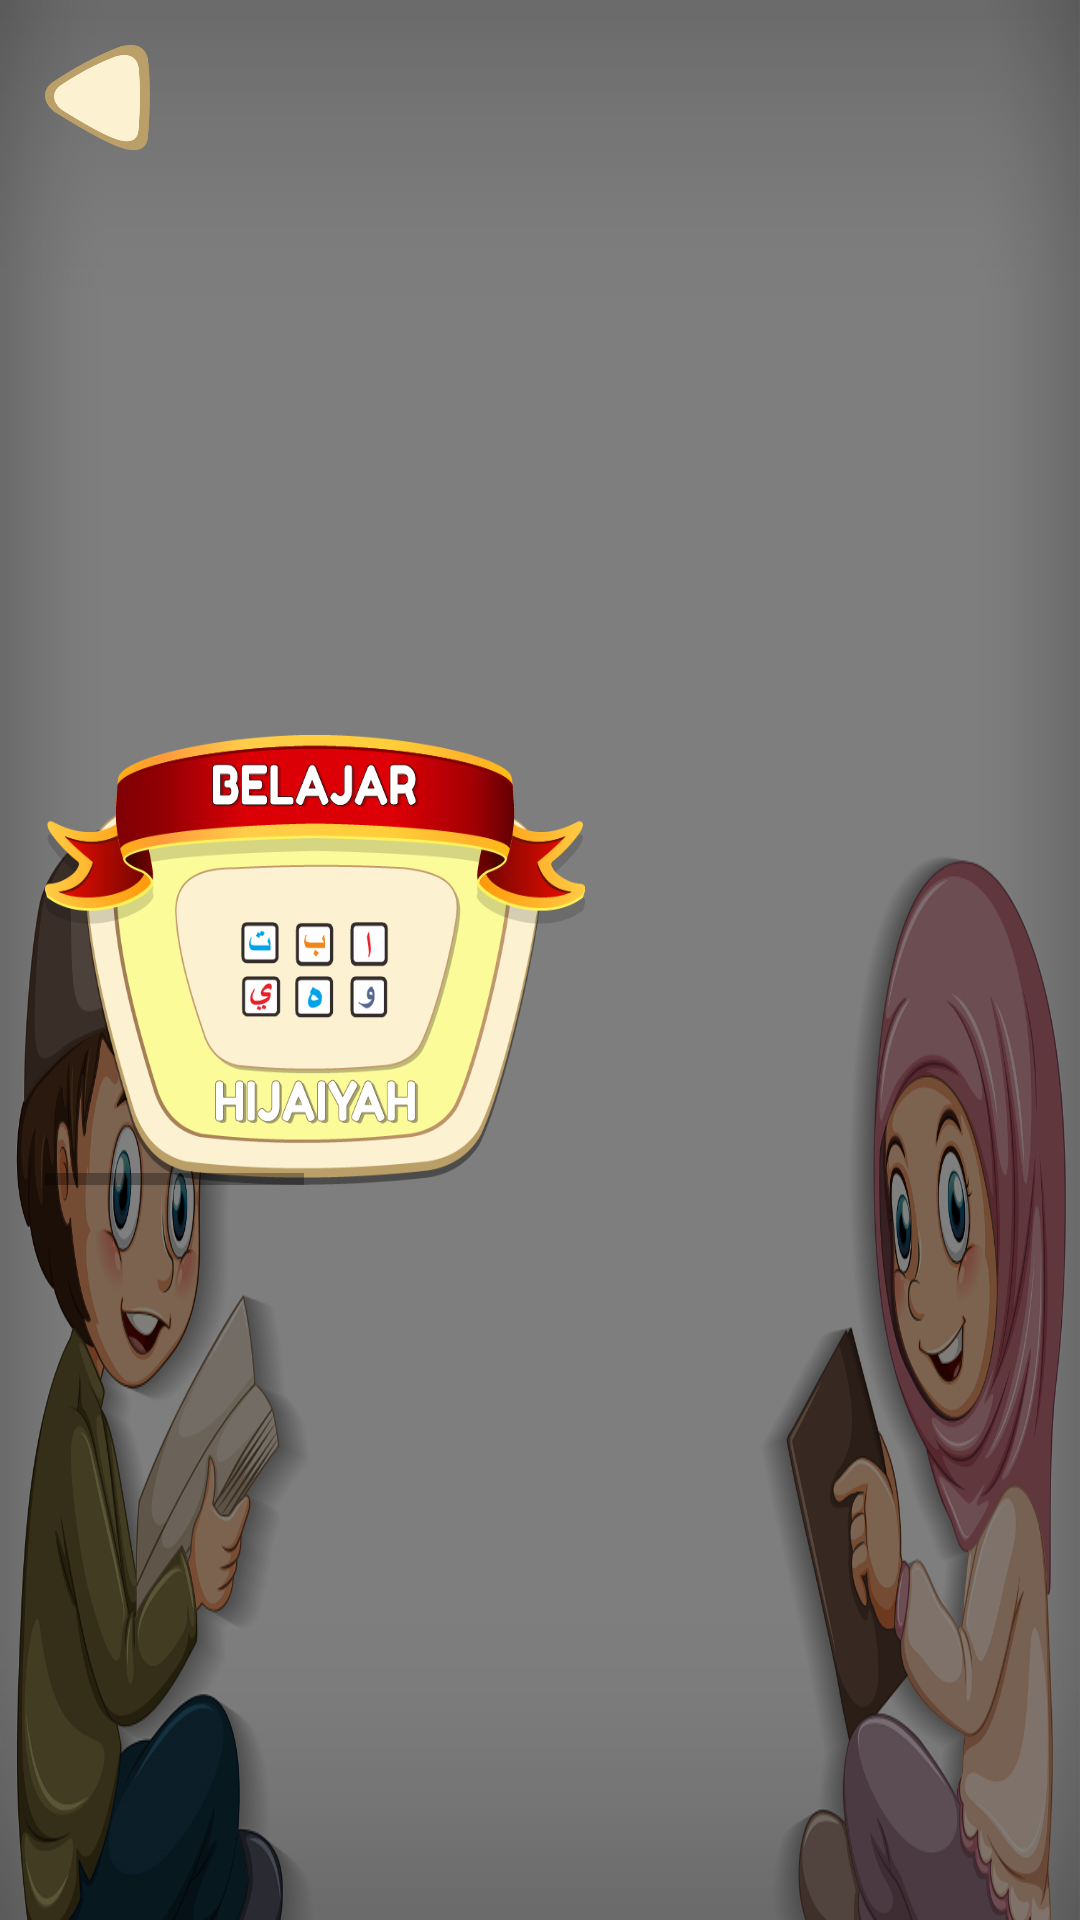

Where icons sit on this 1080×1920 app screen, as [x1,y1,x2,y2]:
back: [45,45,150,150]
